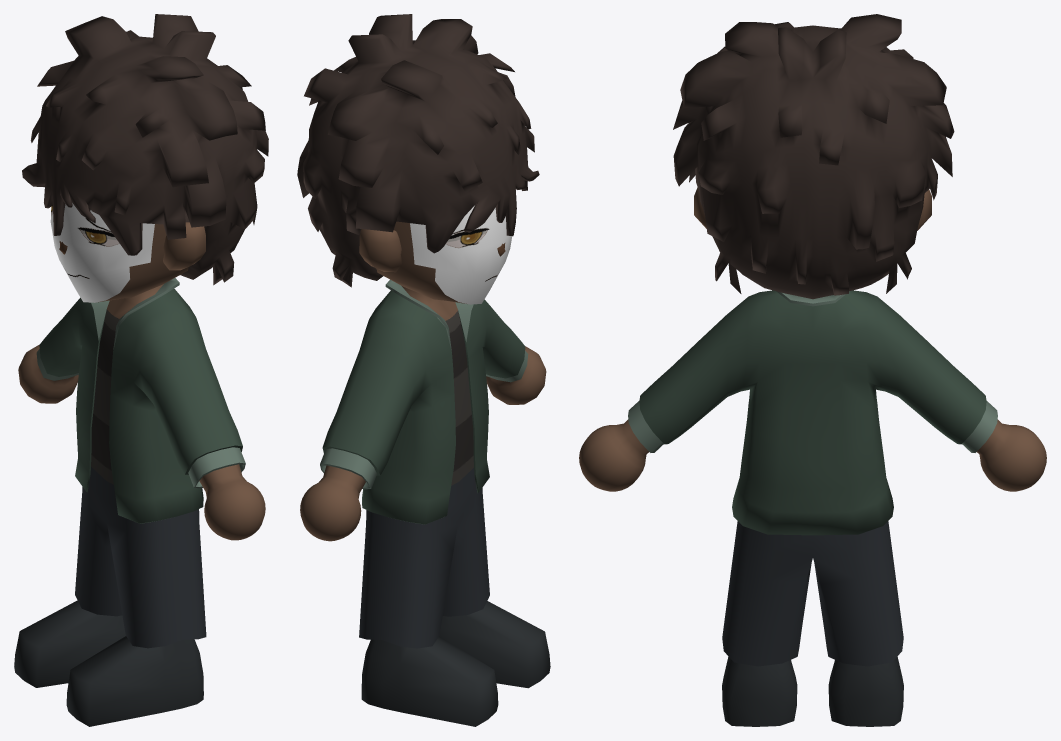
File: Darry_New_Fixed.fbx
3 views of the same model, side by side, from view 1: azimuth 30°, elevation 25°; view 2: azimuth 150°, elevation 25°; view 3: azimuth 270°, elevation 25° (orthographic). The views are drawn at different scales.
Parts seen in each view (by area): view 1: Darry, Jacket.001, Eyes Card; view 2: Darry, Jacket.001, Eyes Card; view 3: Darry, Jacket.001.
Boxes of the visible parts, x1=… form: Darry: x1=14, y1=14, x2=268, y2=726; Jacket.001: x1=36, y1=278, x2=245, y2=523; Eyes Card: x1=50, y1=203, x2=154, y2=302; Darry: x1=297, y1=14, x2=550, y2=726; Jacket.001: x1=320, y1=279, x2=528, y2=524; Eyes Card: x1=410, y1=205, x2=512, y2=304; Darry: x1=579, y1=14, x2=1046, y2=726; Jacket.001: x1=628, y1=290, x2=997, y2=535.
Size of the model in its own units: 0.9761 by 1.83 by 3.03.
3 materials, 3 textured.
